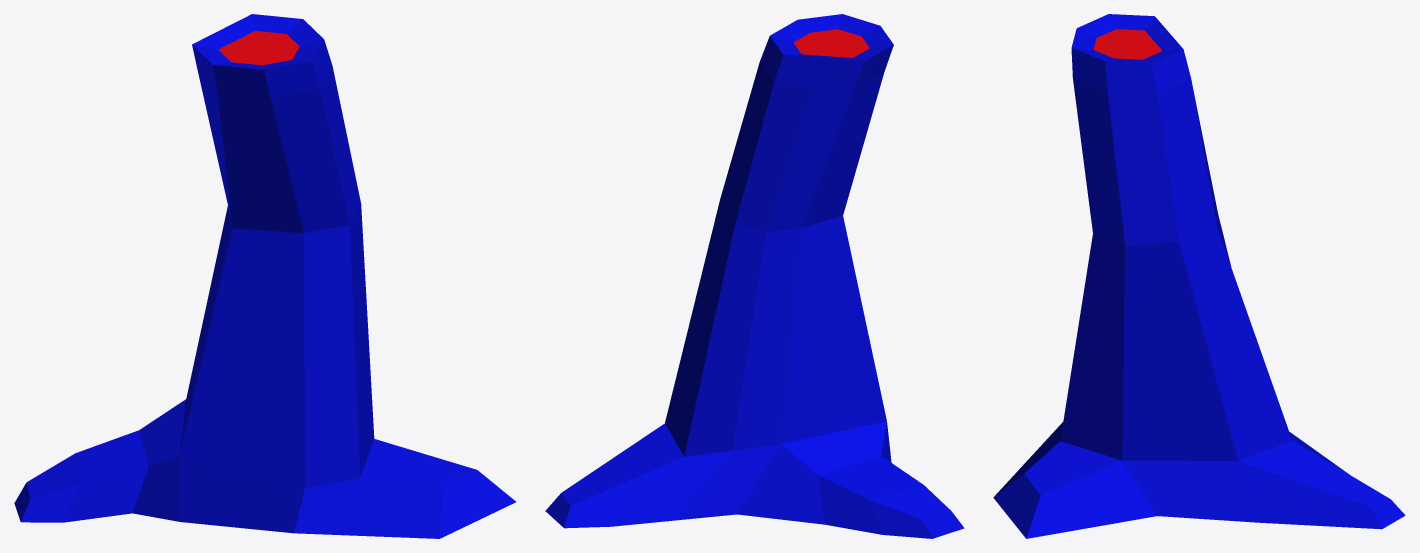
Rendered from SM_TreeStump2.fbx.
The picture shows the model from 3 angles, left to right: view 1: azimuth 30°, elevation 25°; view 2: azimuth 150°, elevation 25°; view 3: azimuth 270°, elevation 25°; orthographic projection. The views are drawn at different scales.
Visible parts, largest first — view 1: SM_TreeStump2; view 2: SM_TreeStump2; view 3: SM_TreeStump2.
Part boxes in pixels (left/top/right/bottom): SM_TreeStump2: left=14, top=14, right=515, bottom=538; SM_TreeStump2: left=545, top=14, right=964, bottom=538; SM_TreeStump2: left=993, top=14, right=1405, bottom=538.
Size of the model in its own units: 106 by 121 by 109.
